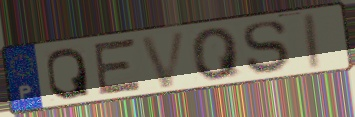E: (92, 36, 144, 98)
I: (304, 10, 325, 72)
Q: (189, 25, 244, 82), (45, 45, 93, 101)
S: (240, 18, 290, 77)
V: (137, 28, 190, 91)
